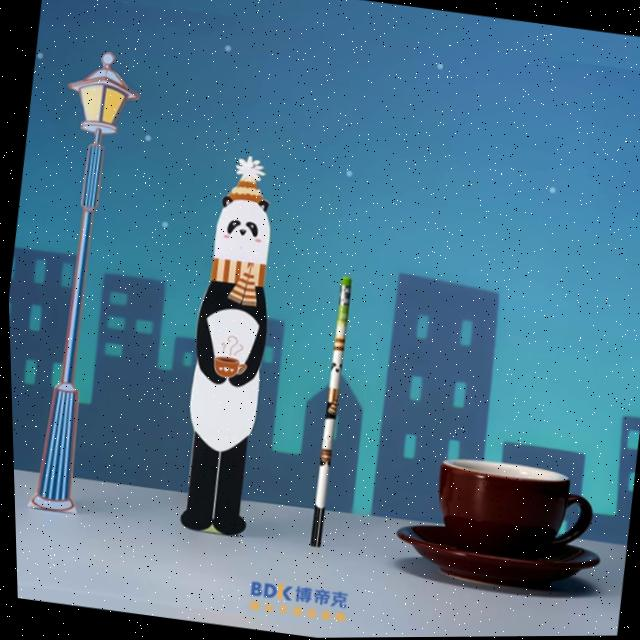pencil: (290, 271, 366, 553)
